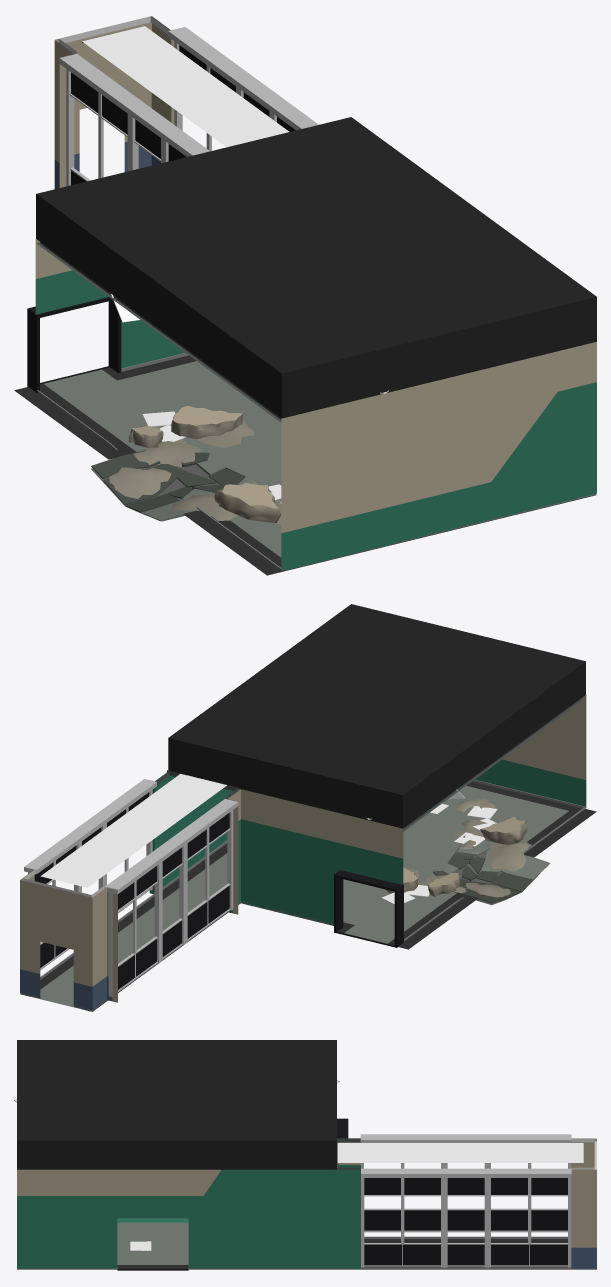
File: SM_H_Building_Tide_MedicalRoom_04_ATLAS.fbx
3 renders of one model, top to bottom at view 1: azimuth 30°, elevation 25°; view 2: azimuth 150°, elevation 25°; view 3: azimuth 270°, elevation 25°, orthographic. The views are drawn at different scales.
Parts seen in each view (by area): view 1: SM_H_Building_Tide_MedicalRoom_04_ATLAS; view 2: SM_H_Building_Tide_MedicalRoom_04_ATLAS; view 3: SM_H_Building_Tide_MedicalRoom_04_ATLAS.
Boxes of the visible parts, x1,y1,x2,y2 form: SM_H_Building_Tide_MedicalRoom_04_ATLAS: (14,16,596,575); SM_H_Building_Tide_MedicalRoom_04_ATLAS: (20,604,596,1011); SM_H_Building_Tide_MedicalRoom_04_ATLAS: (14,1040,596,1270).
Size of the model in its own units: 1269 by 2688 by 706.
